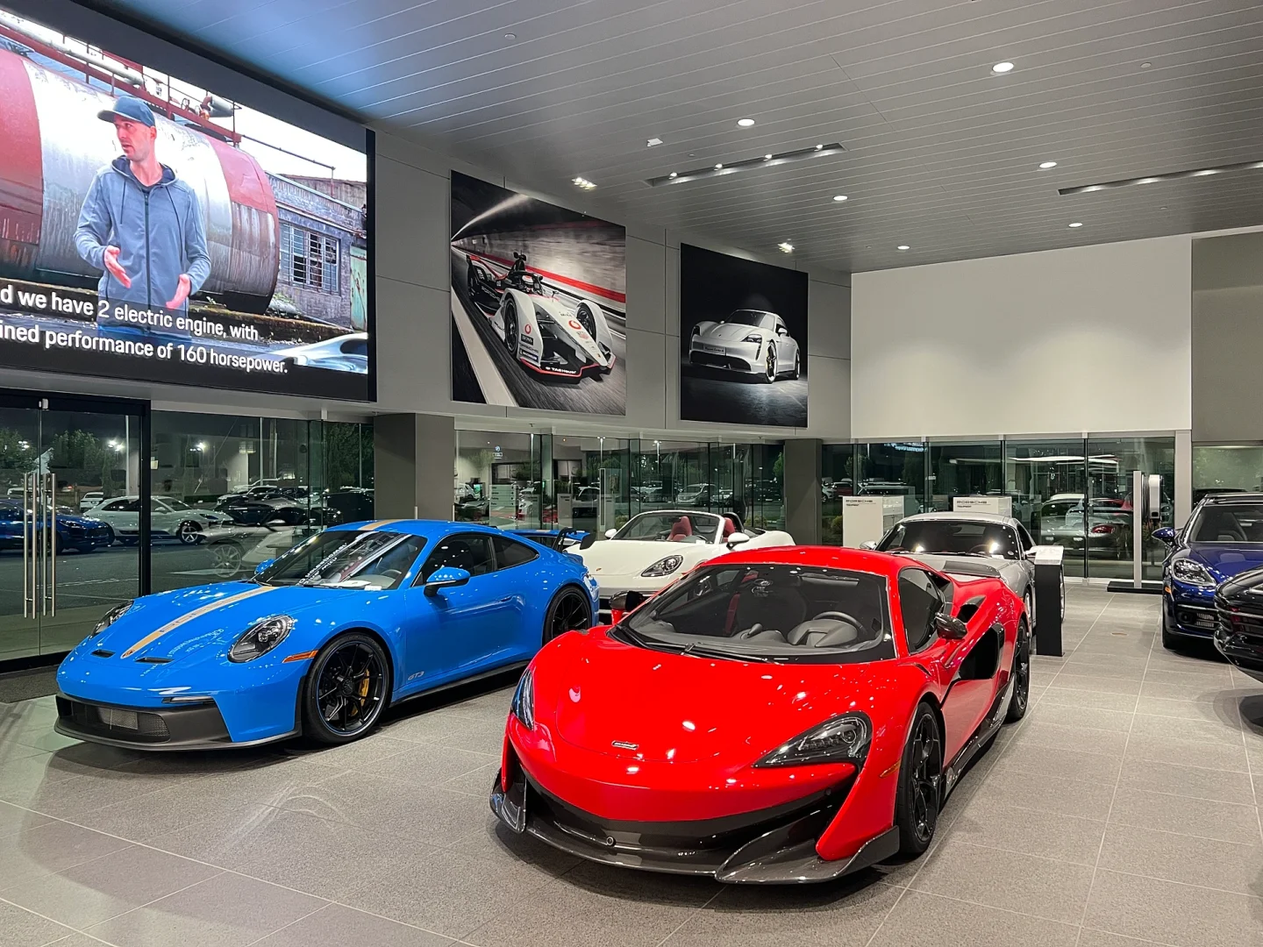other: (470, 523, 1038, 899), (47, 523, 560, 755), (562, 509, 794, 599), (1157, 488, 1263, 657), (90, 491, 228, 544), (5, 495, 106, 558)
